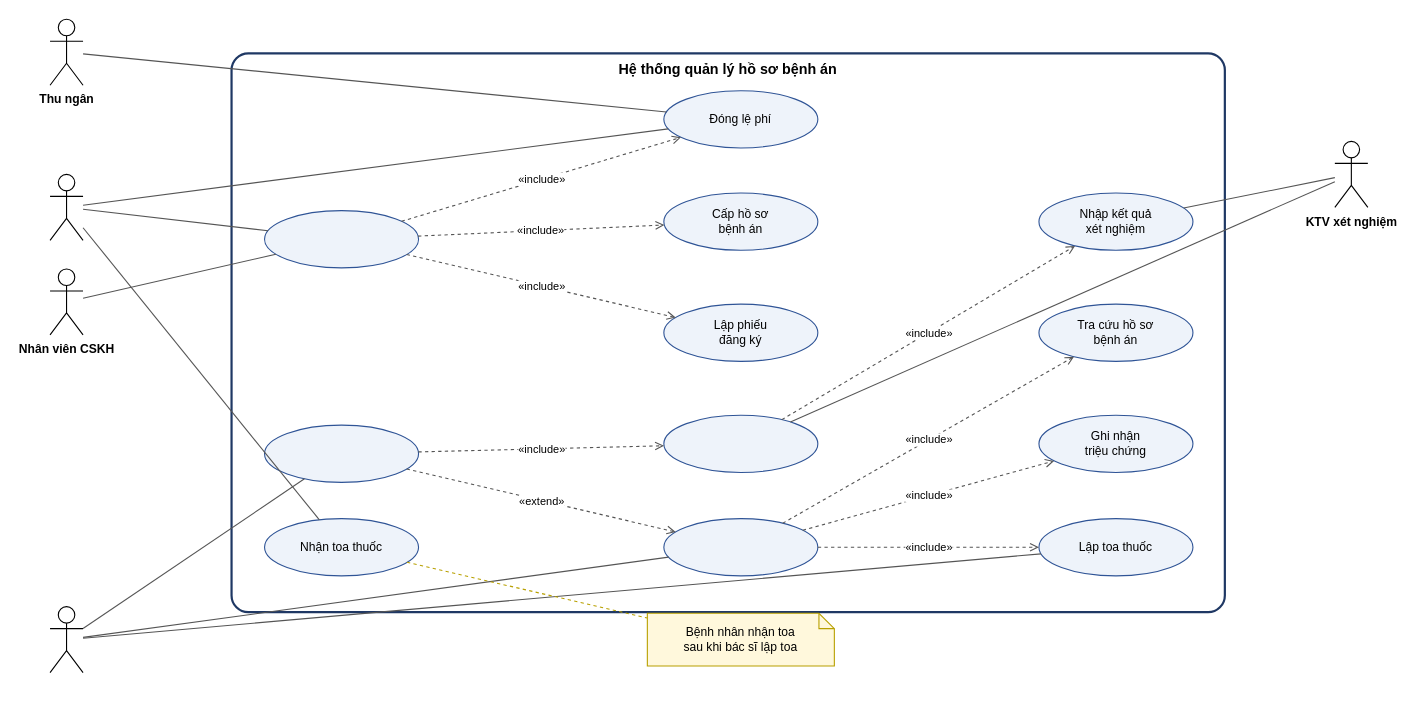
The diagram is 1416 pixels wide and 714 high, and some of its shapes have lost their labels. The centre of each missing label's shape, as x and y in pixels:
"Bác sĩ" belongs at (x=66, y=639).
"Bệnh nhân" belongs at (x=66, y=206).
"Chỉ định xét nghiệm" belongs at (x=341, y=453).
"Khám bệnh" belongs at (x=740, y=547).
"Thực hiện xét nghiệm" belongs at (x=740, y=443).
"Đăng ký khám bệnh" belongs at (x=341, y=239).
